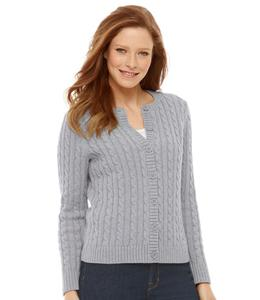C_cardigan sweater: (44, 91, 236, 300)
